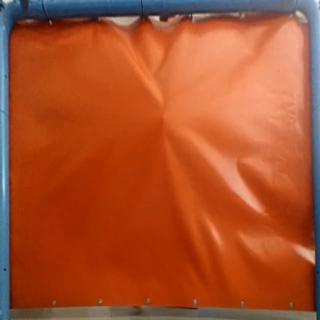Hit-hRxx: (156, 112, 172, 128)
